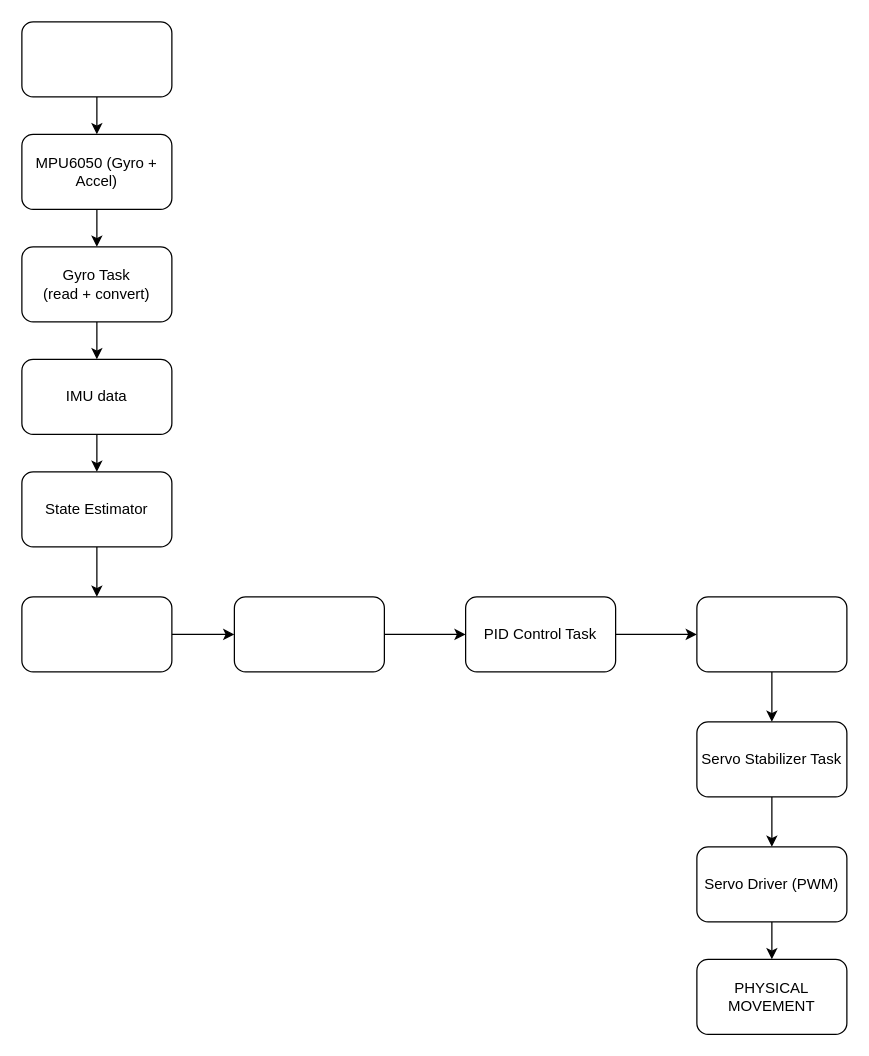
Some shapes in this 869 by 1056 pixel diagram are drawn without their labels. Here are the shapes that lost their labels. From the top down, the centre of each, then its label:
At point (96, 59): "Start".
At point (96, 634): "orientation (pitch/roll)".
At point (308, 634): "PID Input Task".
At point (771, 634): "PID output".
